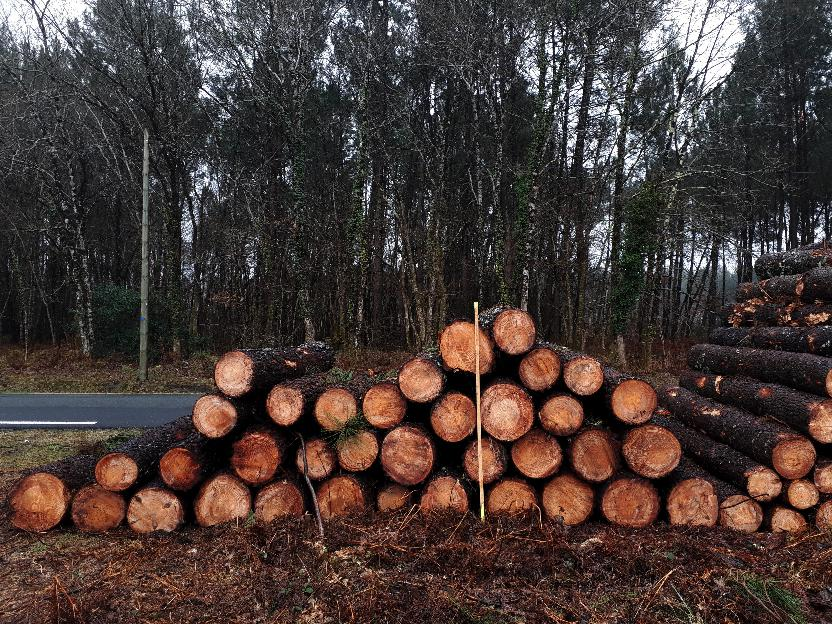etalon: (474, 300, 485, 522)
object: (6, 464, 72, 532), (378, 421, 438, 488), (478, 382, 536, 444), (599, 475, 663, 528), (568, 423, 622, 483), (70, 478, 132, 530), (192, 475, 252, 528), (436, 322, 494, 374), (509, 423, 564, 477), (542, 471, 596, 525), (622, 426, 680, 476), (460, 430, 510, 486), (311, 472, 367, 522), (416, 471, 474, 519), (608, 374, 660, 426), (666, 479, 722, 527), (228, 432, 281, 482), (309, 382, 359, 434), (125, 488, 183, 532), (516, 344, 566, 392), (490, 304, 536, 356), (250, 480, 306, 522), (335, 424, 382, 474), (156, 446, 204, 494), (189, 392, 239, 438), (767, 433, 816, 479), (209, 348, 257, 394), (397, 356, 445, 402), (540, 390, 584, 440), (486, 478, 540, 518), (432, 392, 475, 442), (364, 379, 406, 427), (717, 490, 765, 532), (266, 380, 306, 426), (93, 452, 141, 490), (564, 354, 606, 396), (296, 438, 338, 480), (739, 466, 784, 502), (804, 397, 832, 448), (785, 476, 819, 510), (768, 508, 804, 534), (377, 486, 411, 511), (815, 457, 831, 496), (814, 497, 830, 526)
pile: (6, 304, 738, 540)
